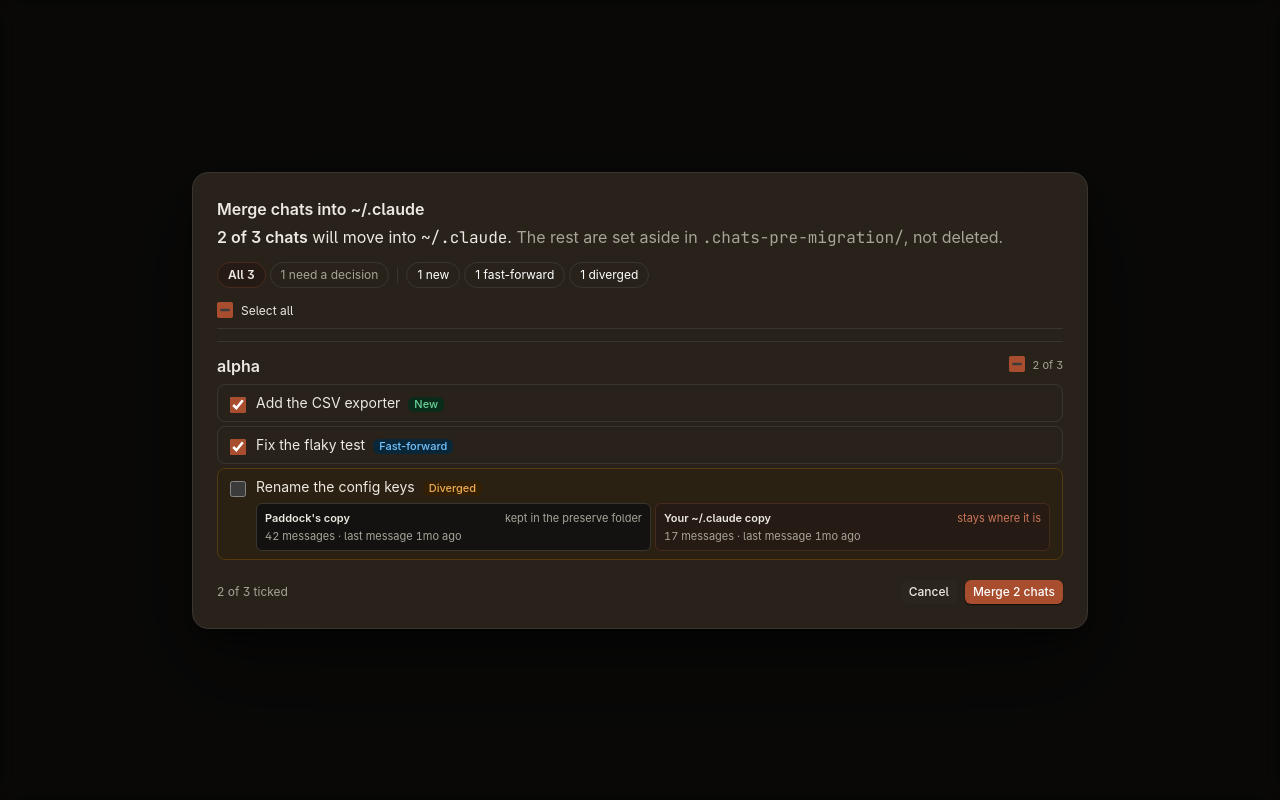
refusals › 409 turn_running names the chats that would not stop, and offers a retry
Expected: the checkbox labelled "Add the CSV exporter New" is shown, [230, 396, 246, 412]
Click the button "Merge 2 chats". click: (1014, 592)
box: [965, 580, 1063, 604]
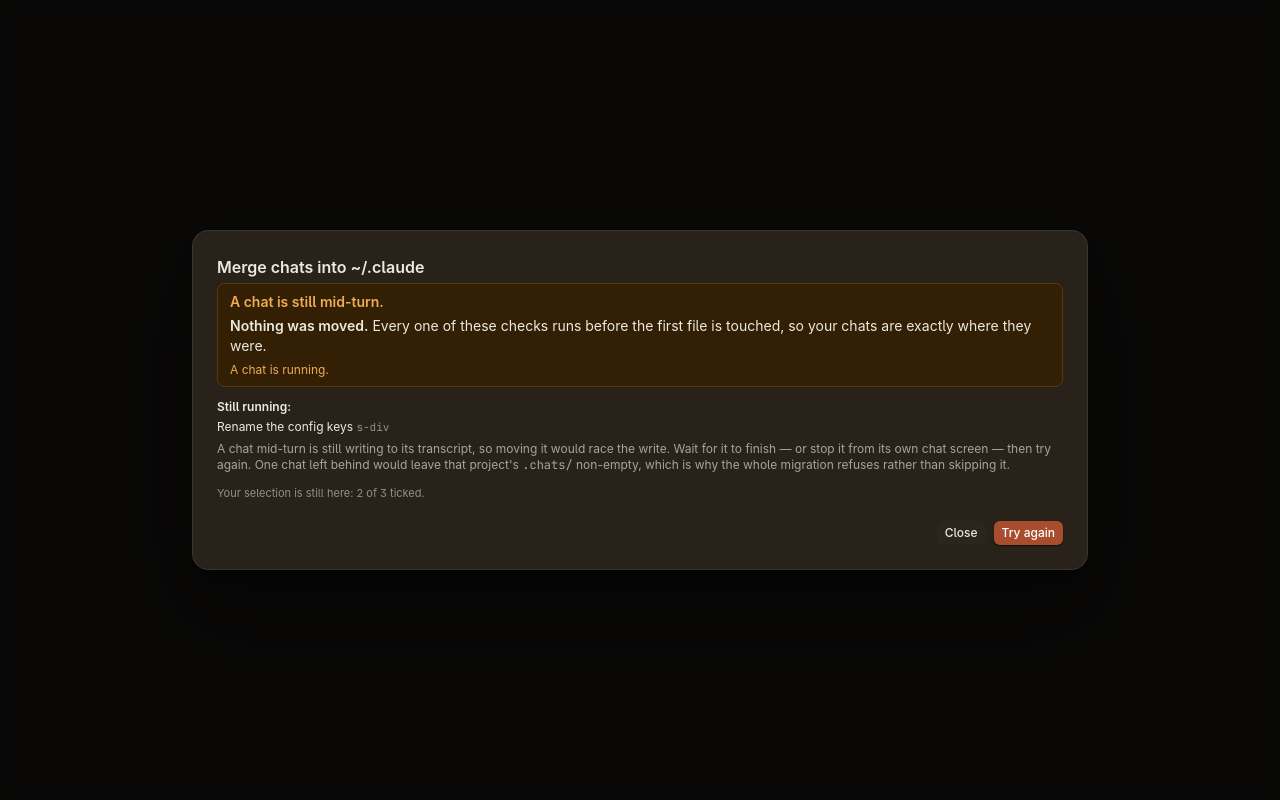
Now the text "Nothing was moved." is shown, box [230, 317, 368, 334]
Now the text "A chat is still mid-turn." is shown, box [230, 293, 384, 310]
Now the text "s-div" is shown, box [356, 420, 389, 434]
